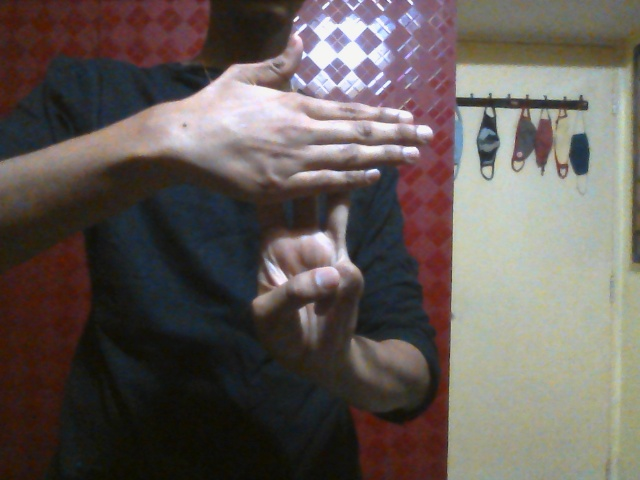M: (190, 34, 435, 353)
